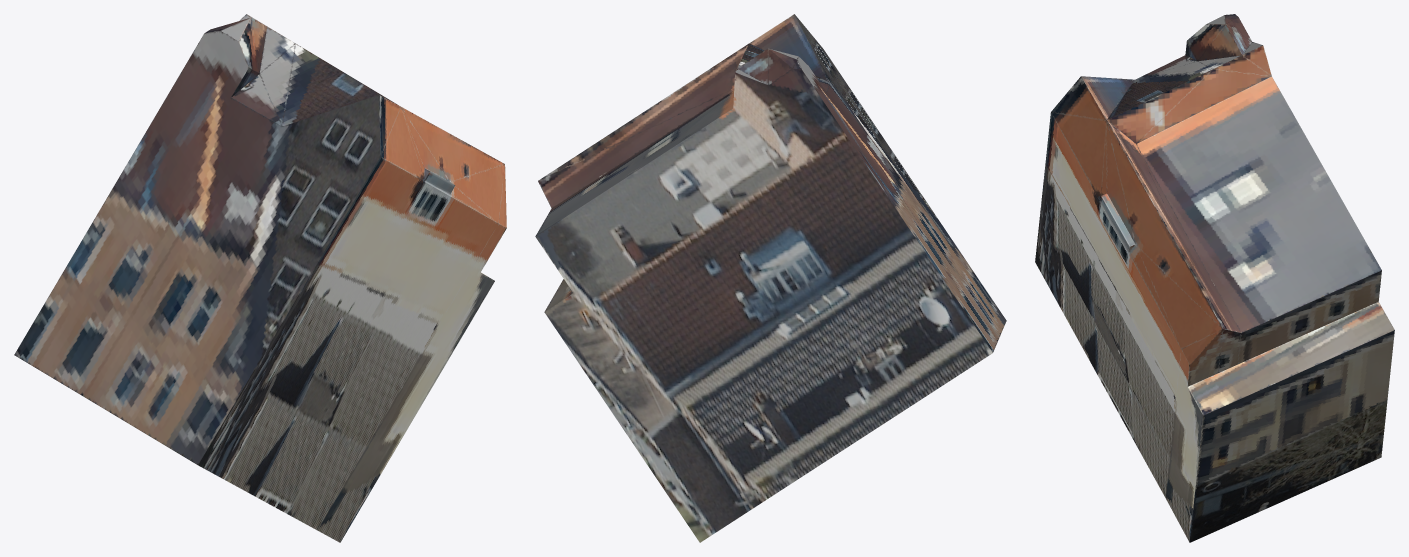
The picture shows the model from 3 angles, left to right: view 1: azimuth 30°, elevation 25°; view 2: azimuth 150°, elevation 25°; view 3: azimuth 270°, elevation 25°; orthographic projection. The views are drawn at different scales.
Parts seen in each view (by area): view 1: BAG_0599100000656921 (×5); view 2: BAG_0599100000656921 (×3); view 3: BAG_0599100000656921 (×5).
Boxes of the visible parts, <box> form: BAG_0599100000656921 (×5): <box>14,14,506,542</box>; BAG_0599100000656921 (×3): <box>535,14,1006,542</box>; BAG_0599100000656921 (×5): <box>1035,15,1394,542</box>.
Size of the model in its own units: 22.14 by 22.65 by 15.16.
Materials: 6 (6 with a texture image).
